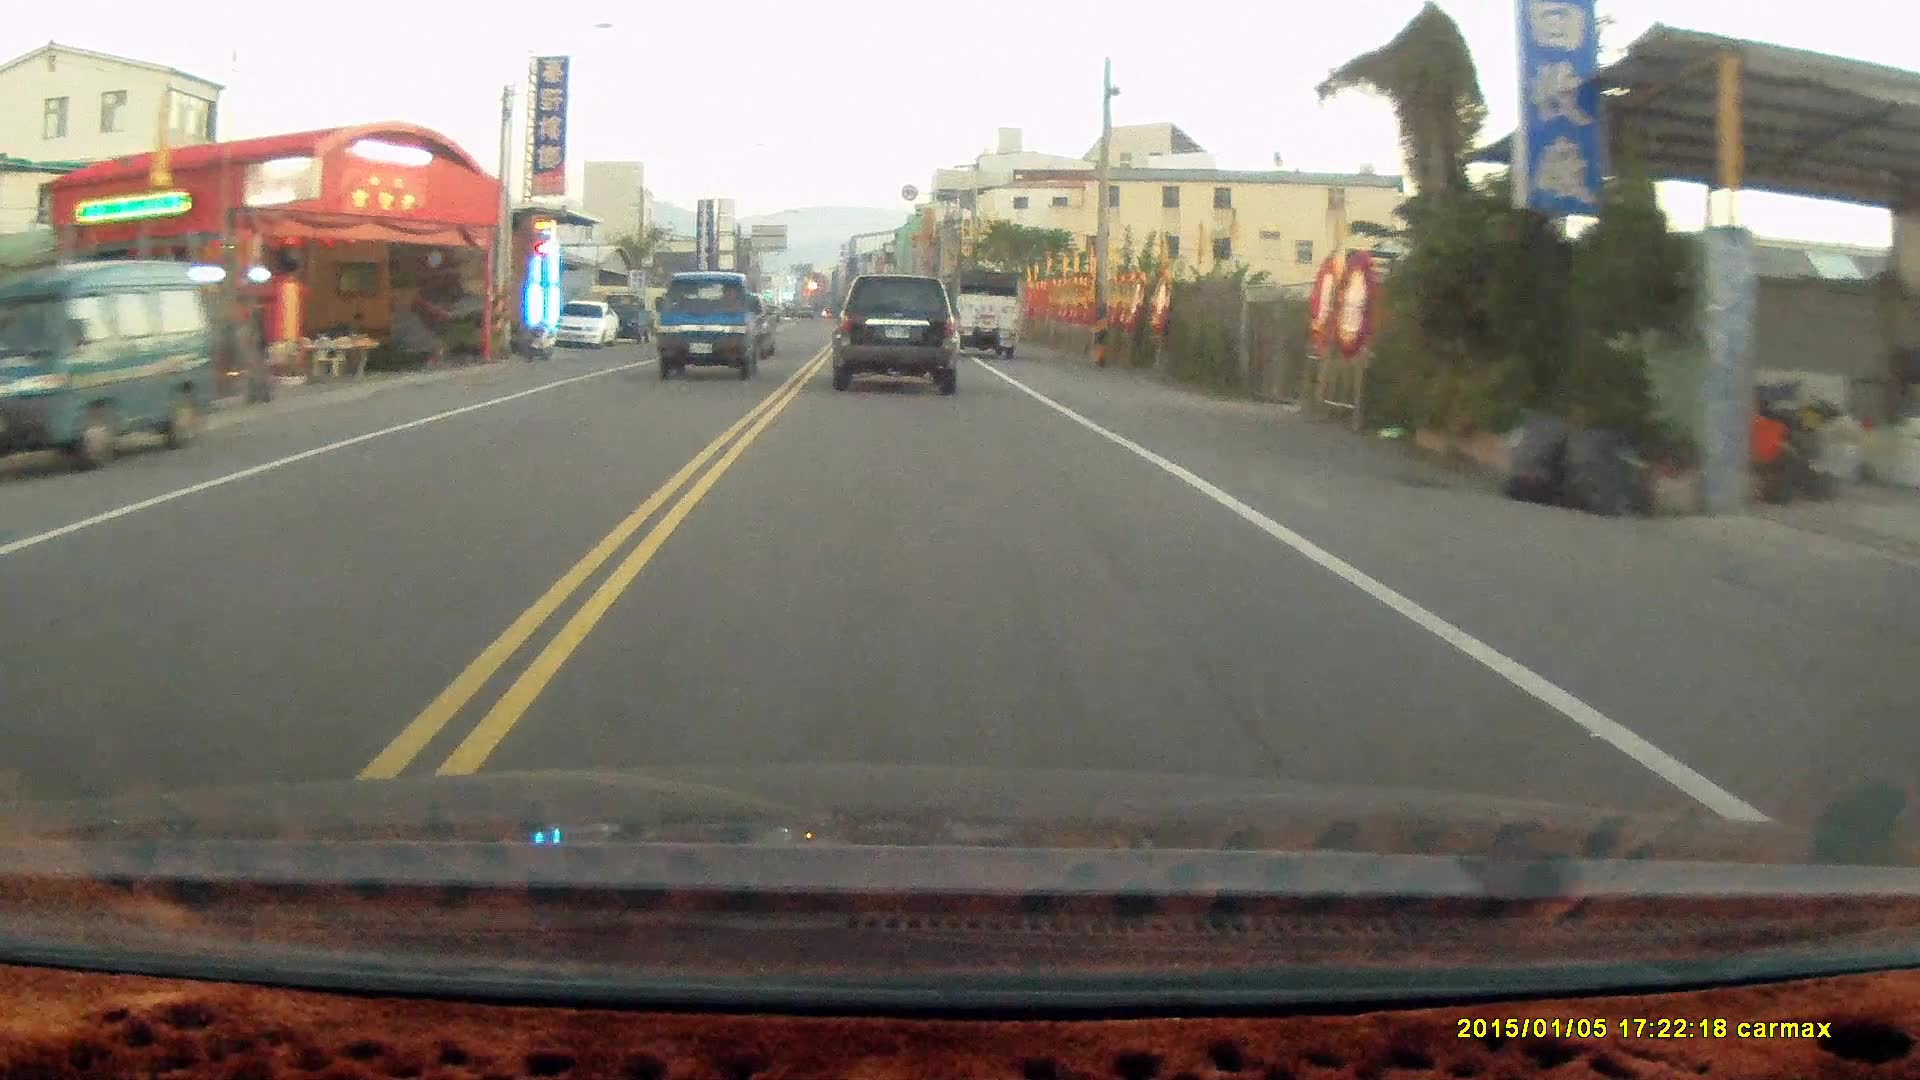vehicle: (7, 256, 229, 472), (837, 265, 971, 392), (654, 265, 779, 375), (939, 264, 1025, 359), (553, 301, 621, 345)
